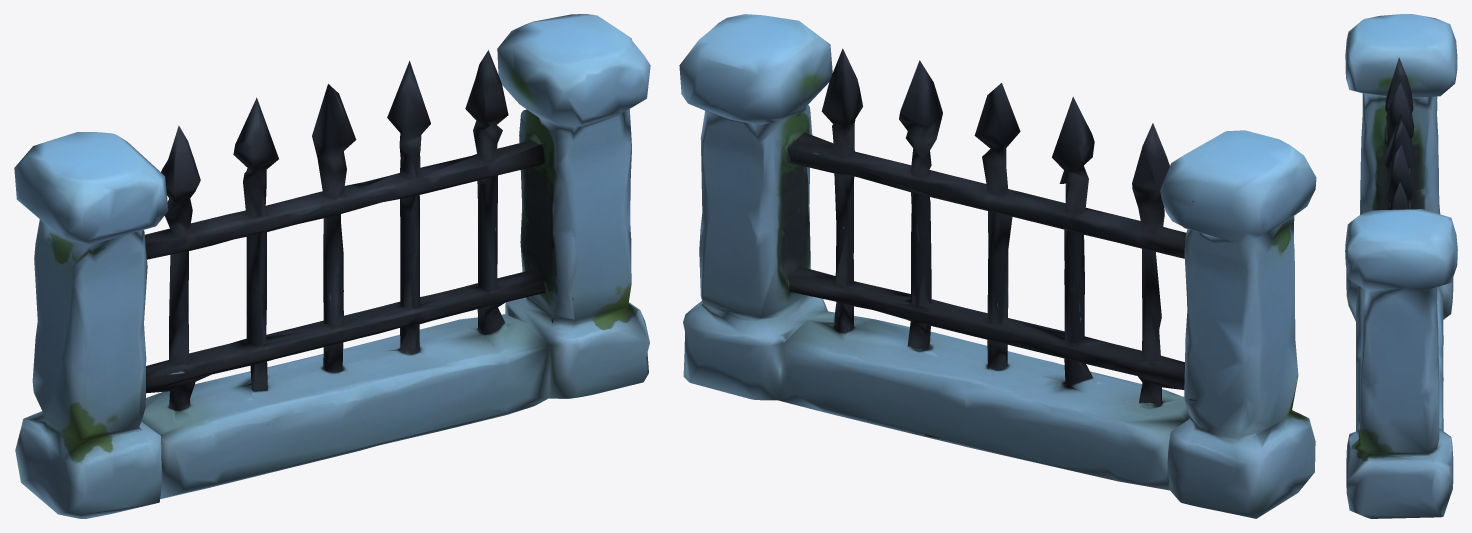
The model's file is gy_fence-DD1JYDv_.glb.
The picture shows the model from 3 angles, left to right: view 1: azimuth 30°, elevation 25°; view 2: azimuth 150°, elevation 25°; view 3: azimuth 270°, elevation 25°; orthographic projection. The views are drawn at different scales.
Parts seen in each view (by area): view 1: tripo_node_10adf5ce-945a-4eca-a9d2-e3481a6b927c; view 2: tripo_node_10adf5ce-945a-4eca-a9d2-e3481a6b927c; view 3: tripo_node_10adf5ce-945a-4eca-a9d2-e3481a6b927c.
Boxes of the visible parts, left/top/right/bottom form: tripo_node_10adf5ce-945a-4eca-a9d2-e3481a6b927c: left=14, top=14, right=650, bottom=518; tripo_node_10adf5ce-945a-4eca-a9d2-e3481a6b927c: left=679, top=14, right=1316, bottom=518; tripo_node_10adf5ce-945a-4eca-a9d2-e3481a6b927c: left=1345, top=14, right=1457, bottom=518.
Size of the model in its own units: 1 by 0.581 by 0.201.
Materials: 1 (1 with a texture image).
